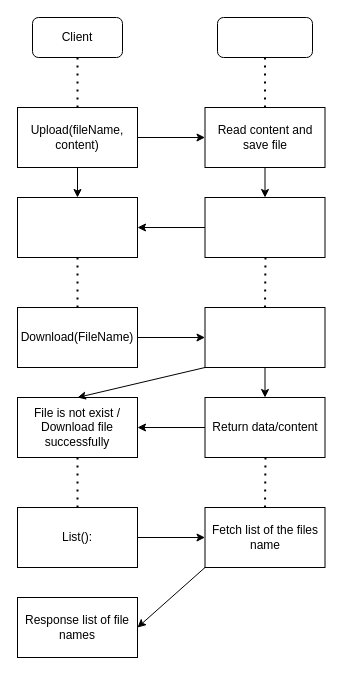
Some shapes in this 343 by 675 pixel diagram are drawn without their labels. The centre of each missing label's shape, as x and y in pixels:
Cannot find file/ Server response: point (77, 227)
Check file if exist: point (264, 337)
File upload successfully: point (264, 227)
Server: point (264, 37)
